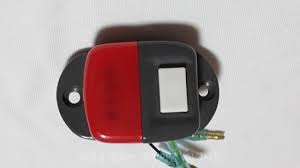bell: (57, 43, 218, 143)
